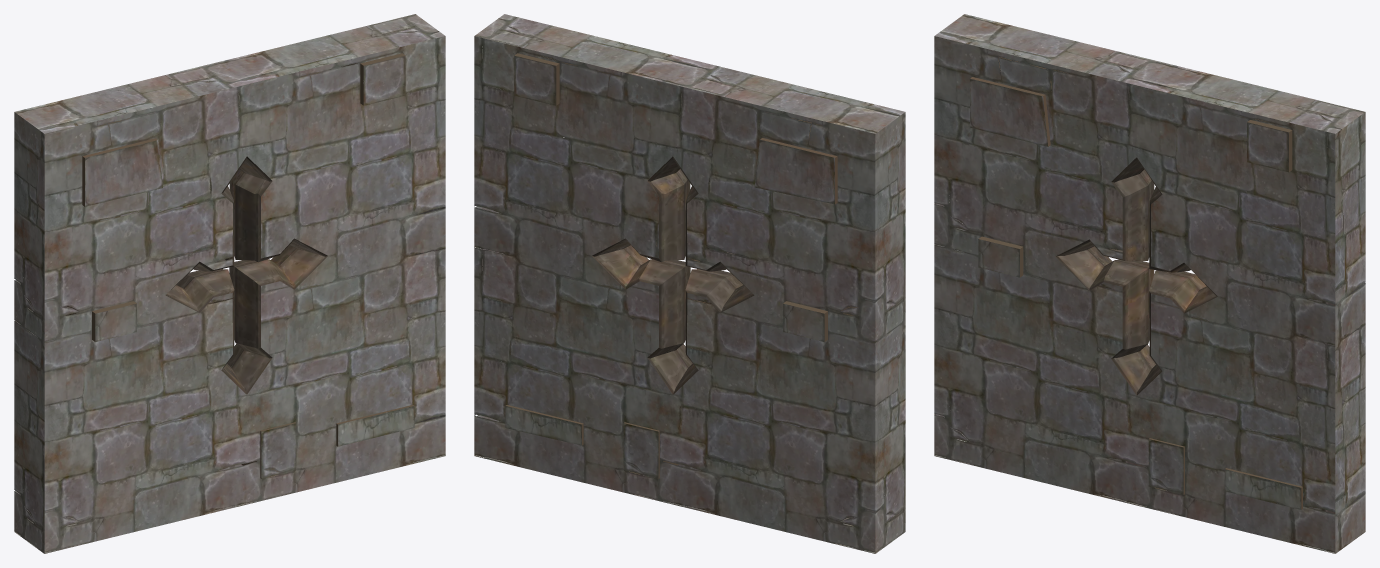
3 renders of one model, left to right at view 1: azimuth 30°, elevation 25°; view 2: azimuth 150°, elevation 25°; view 3: azimuth 330°, elevation 25°, orthographic.
Visible parts, largest first — view 1: SM_BB_T3_Extended_Wall_Windowframe_Large_05_LOD0; view 2: SM_BB_T3_Extended_Wall_Windowframe_Large_05_LOD0; view 3: SM_BB_T3_Extended_Wall_Windowframe_Large_05_LOD0.
Part boxes in pixels (x1,y1,x2,y2): SM_BB_T3_Extended_Wall_Windowframe_Large_05_LOD0: (14, 14, 445, 553); SM_BB_T3_Extended_Wall_Windowframe_Large_05_LOD0: (474, 14, 905, 553); SM_BB_T3_Extended_Wall_Windowframe_Large_05_LOD0: (934, 14, 1365, 553).
Bounding box in the file's own units: 3 × 3 × 0.4788.
2 materials, 2 textured.
